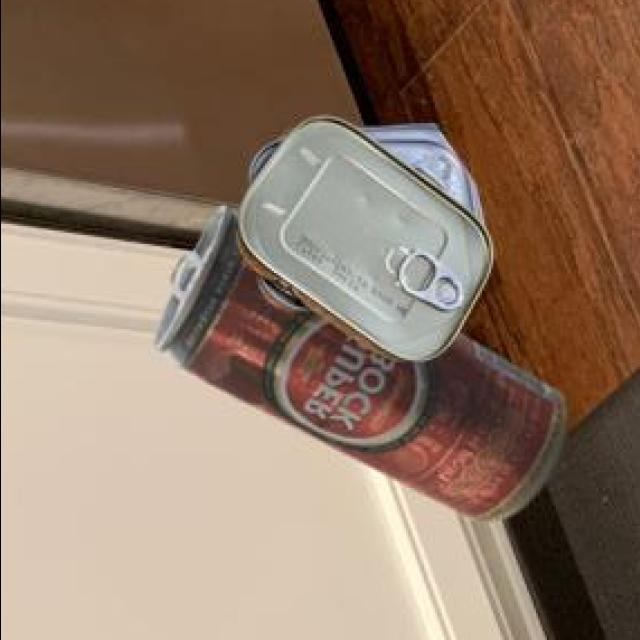logam: (151, 203, 563, 518), (234, 113, 489, 359)
